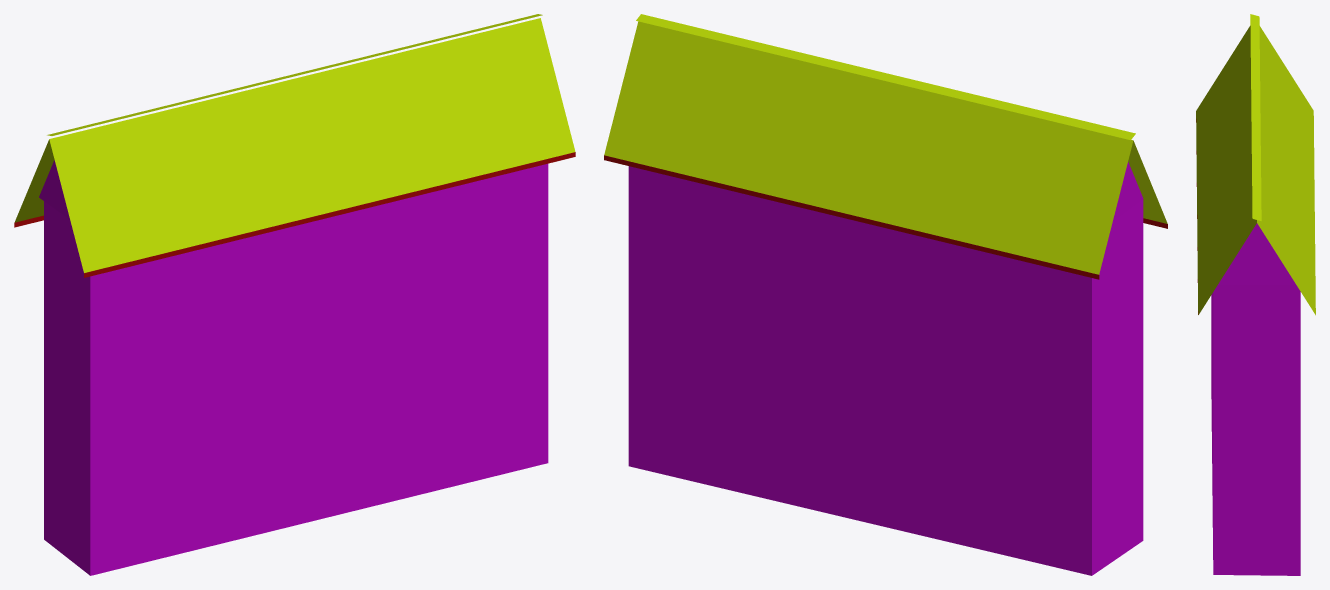
The model's file is niv_122.glb.
3 renders of one model, left to right at view 1: azimuth 30°, elevation 25°; view 2: azimuth 150°, elevation 25°; view 3: azimuth 270°, elevation 25°, orthographic. The views are drawn at different scales.
Parts seen in each view (by area): view 1: niv_122; view 2: niv_122; view 3: niv_122.
Part boxes in pixels (<box>): niv_122: <box>14,14,575,575</box>; niv_122: <box>604,14,1167,575</box>; niv_122: <box>1196,14,1315,575</box>.
Size of the model in its own units: 12.78 by 10.57 by 3.16.
